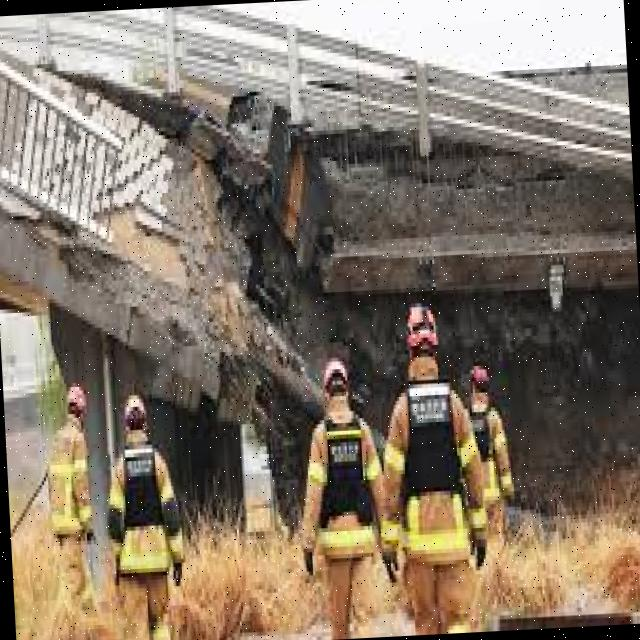bridge collapse: (16, 13, 602, 474)
